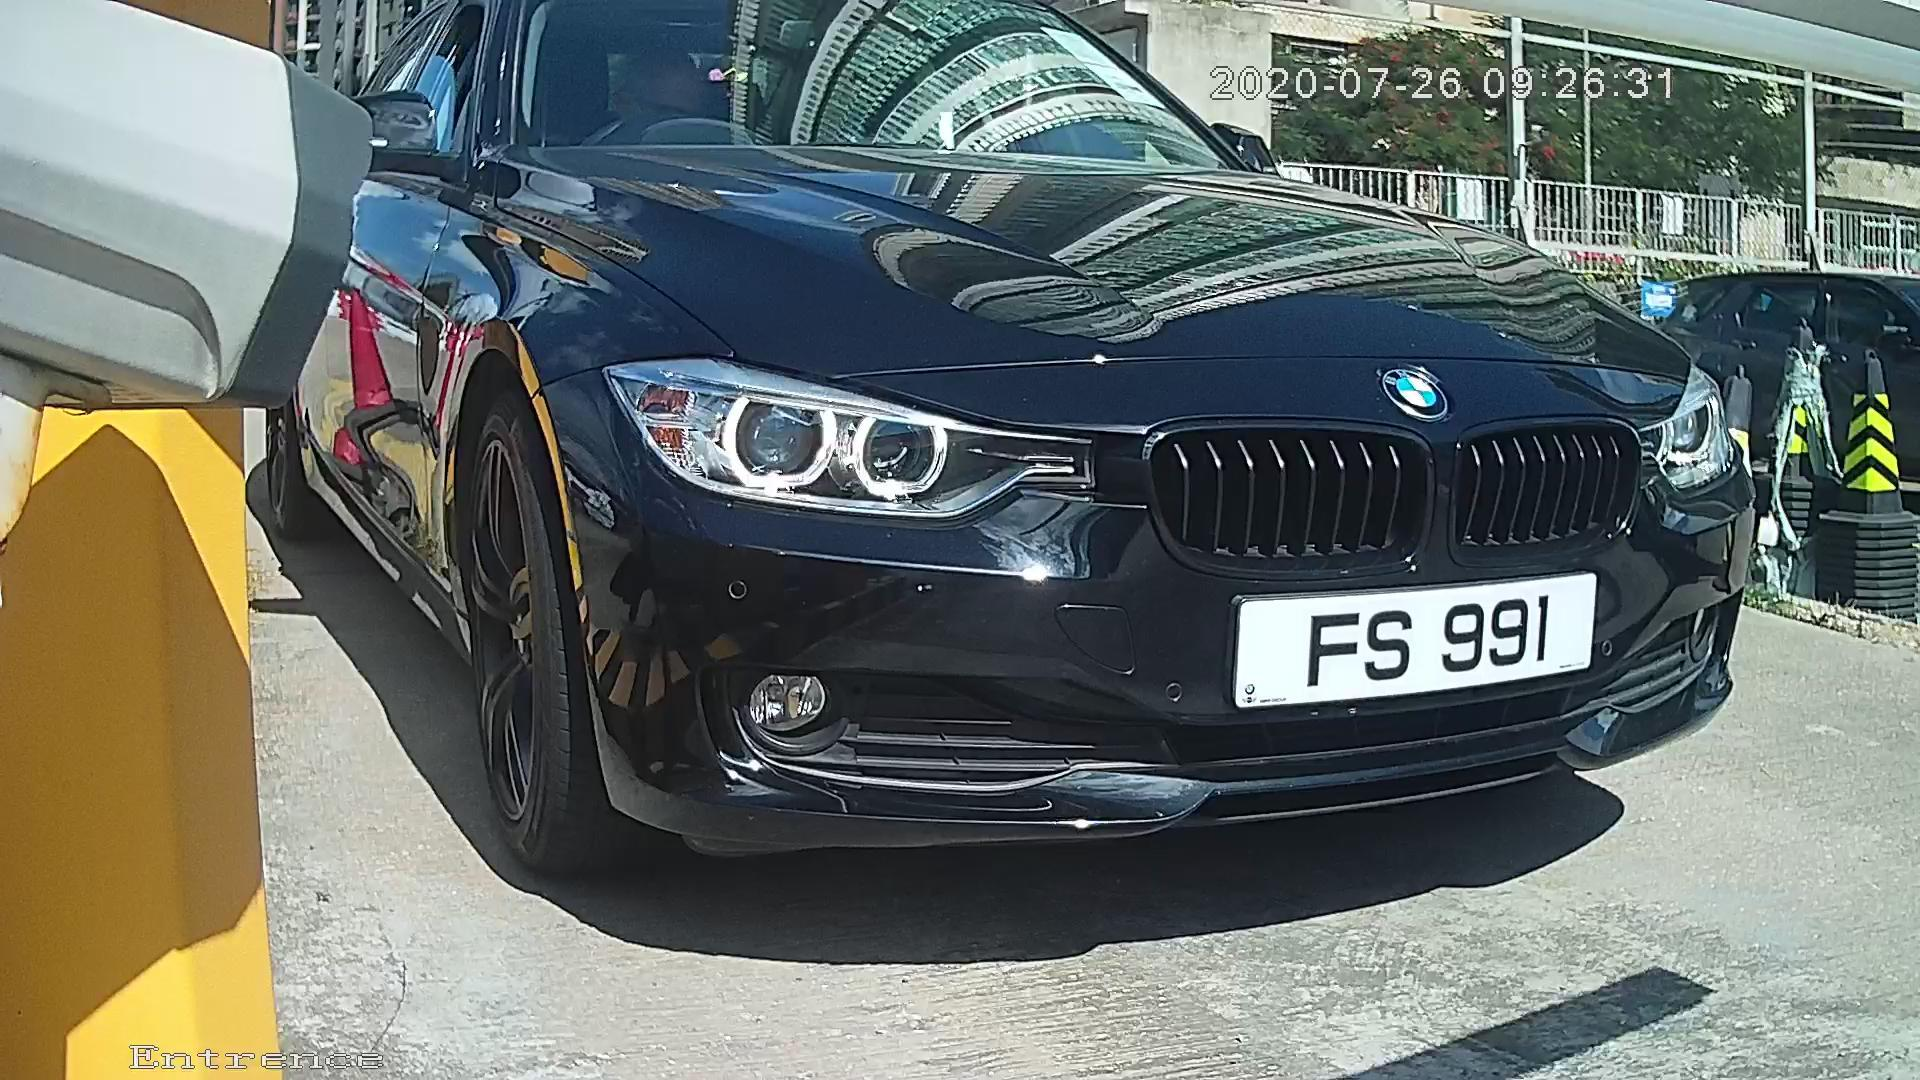privatecar: (241, 40, 1801, 920)
